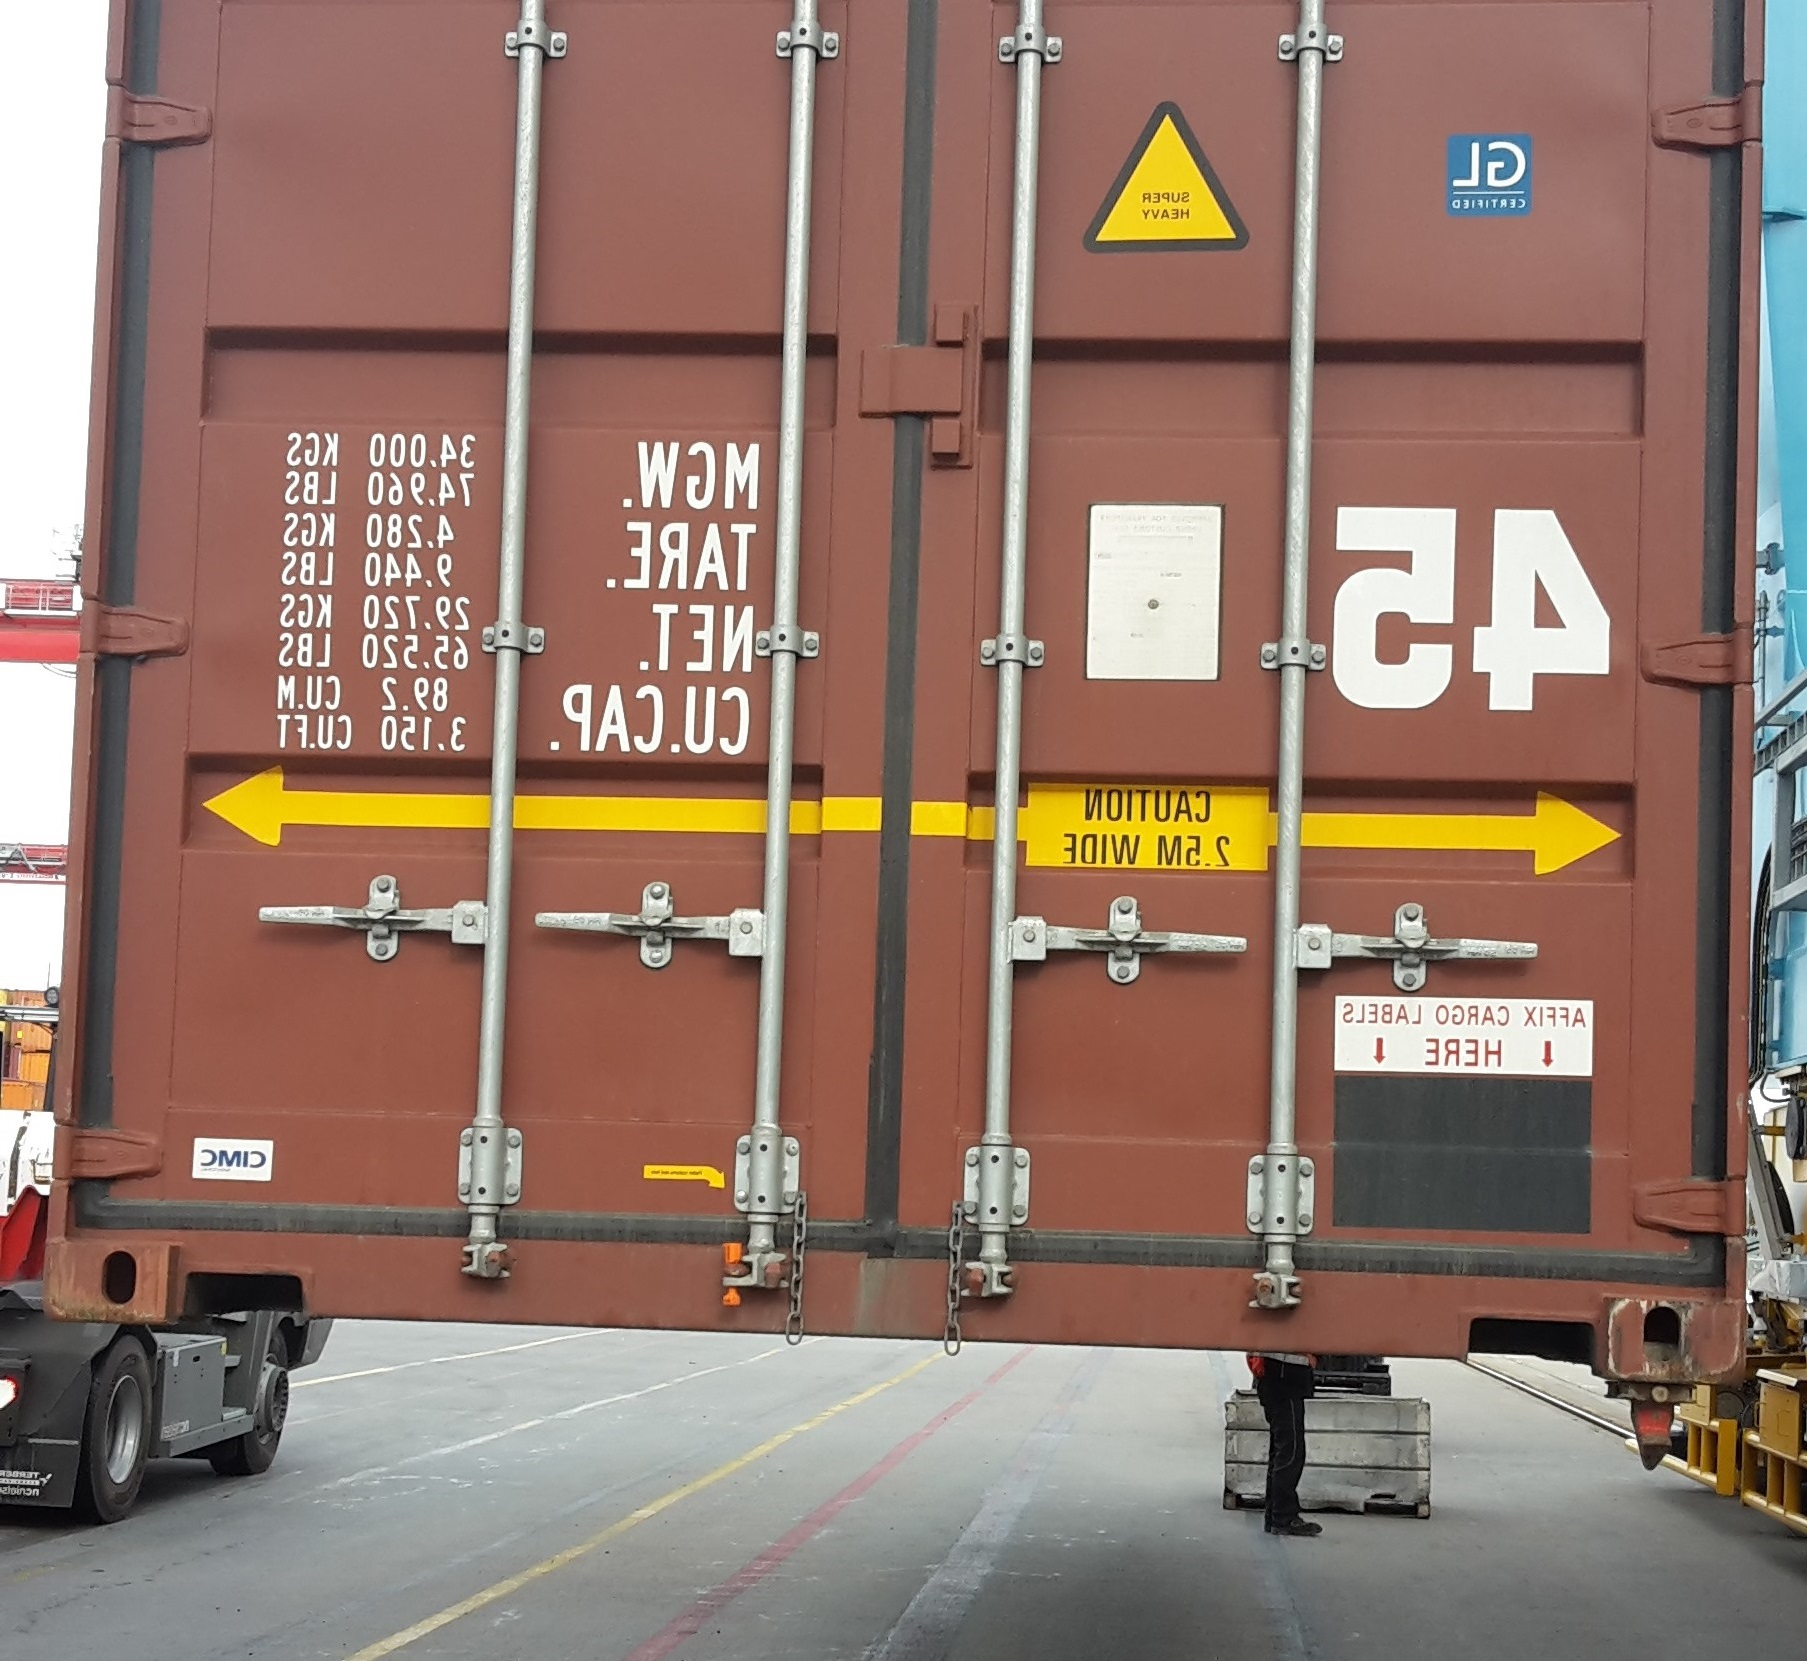container_door: (46, 2, 1750, 1392)
